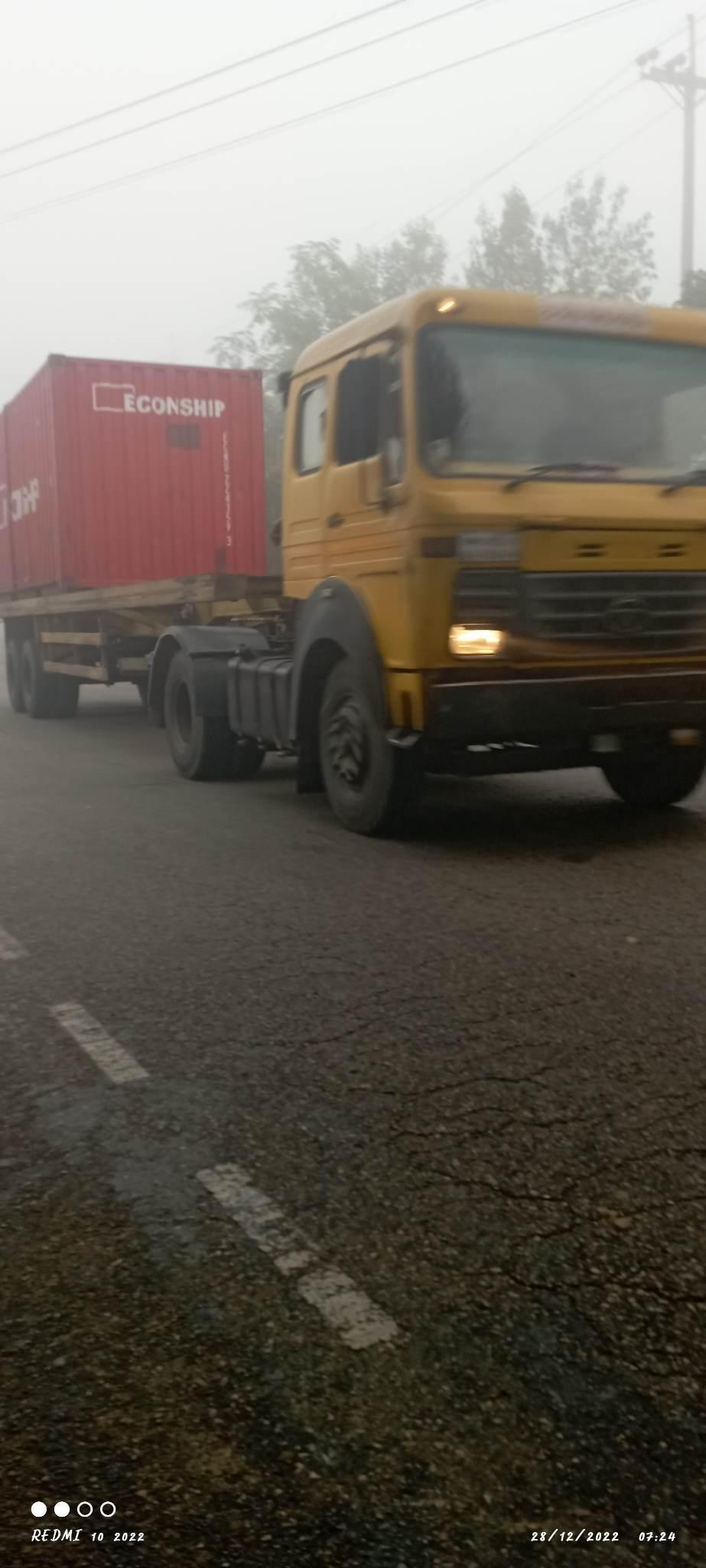Truck: (2, 257, 706, 883)
